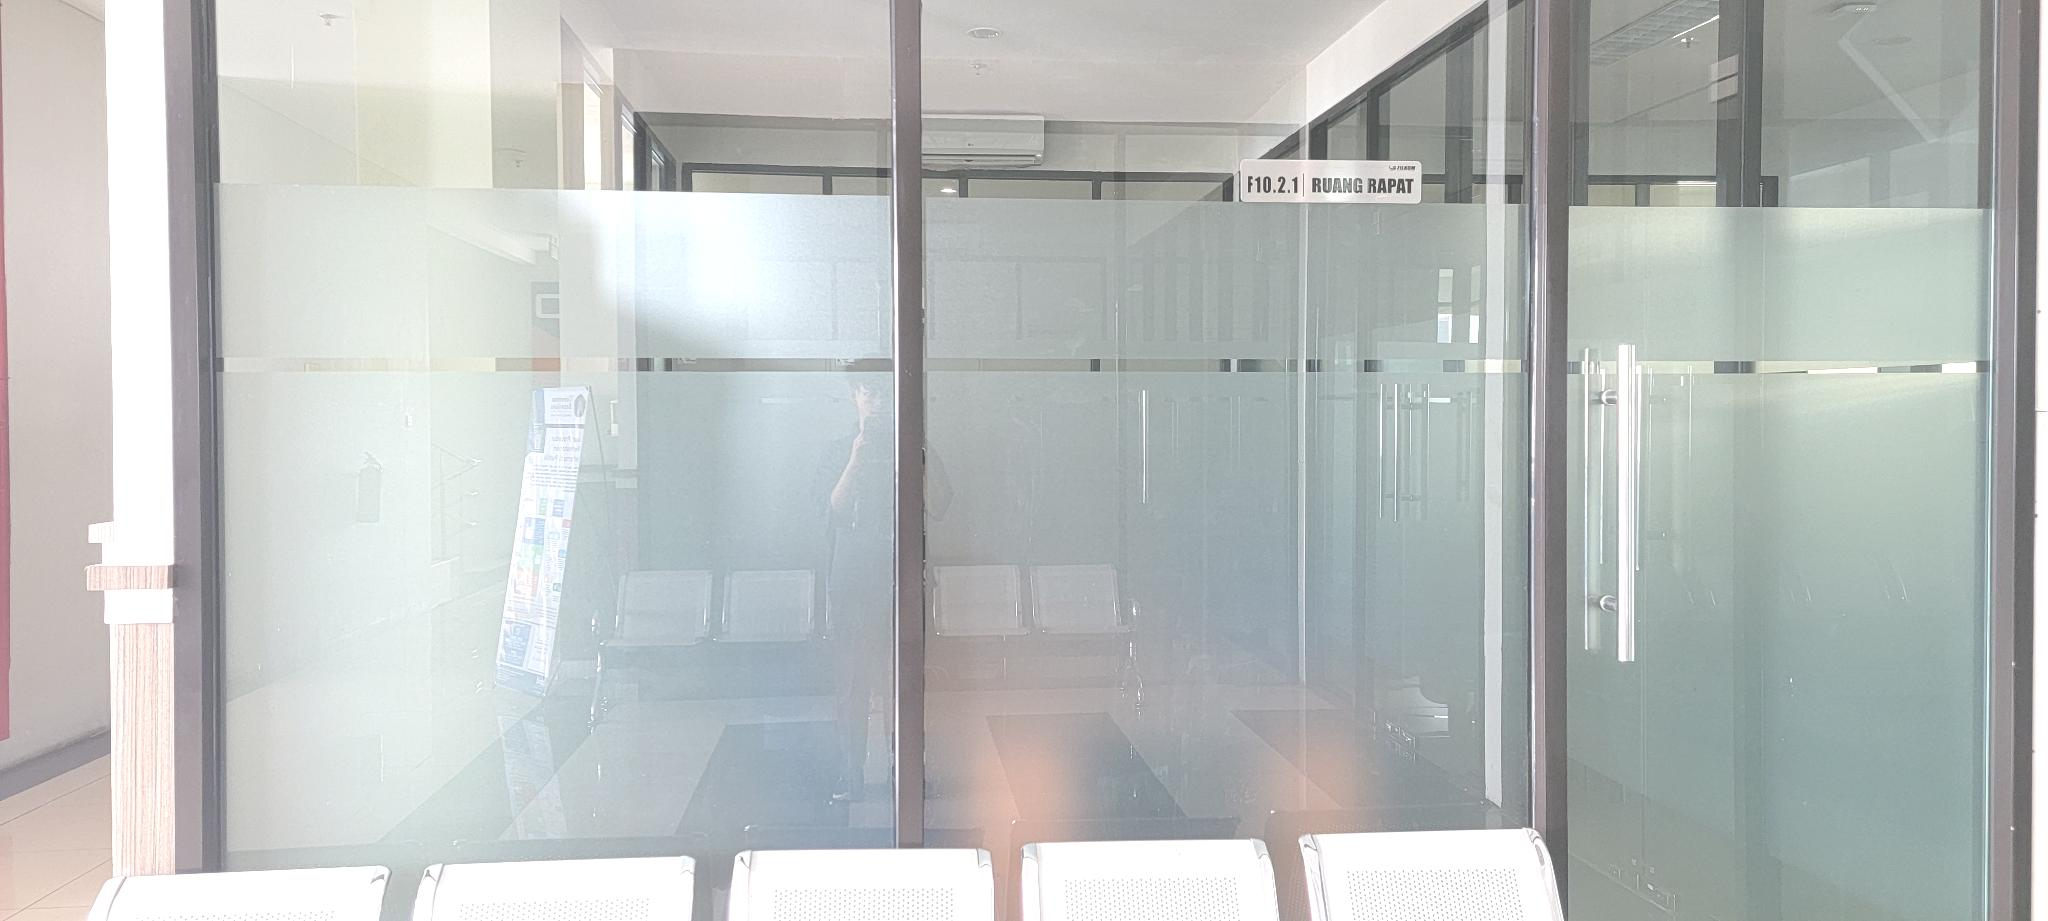plate: (1238, 159, 1422, 206)
